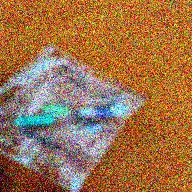러키펜정: (110, 103, 129, 118)
씨엠지세파클러캡슐: (77, 107, 112, 118)
에르도캡슐: (13, 115, 55, 128)
휴티렌정: (42, 104, 71, 117)
